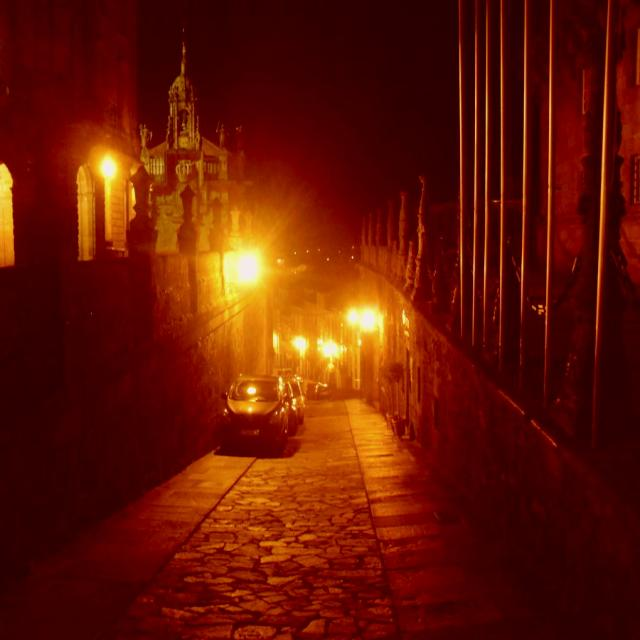Car: (218, 376, 295, 458)
